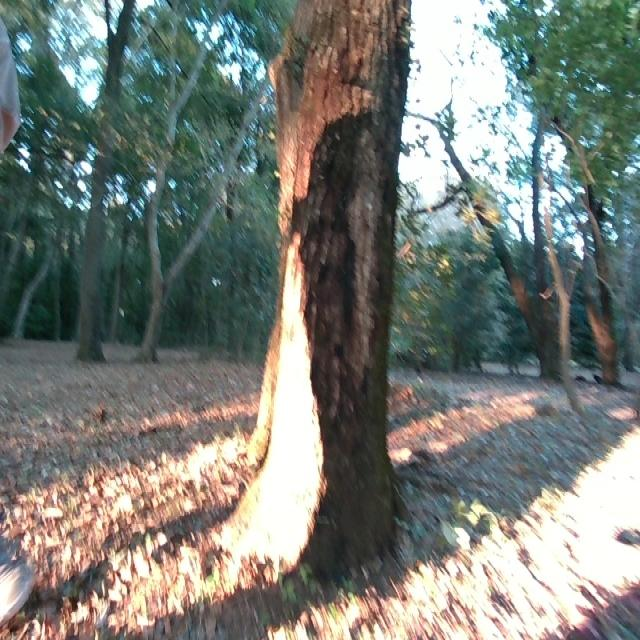tree: (242, 0, 422, 557), (446, 58, 583, 406), (135, 0, 255, 359), (69, 0, 130, 365), (575, 129, 633, 387)
